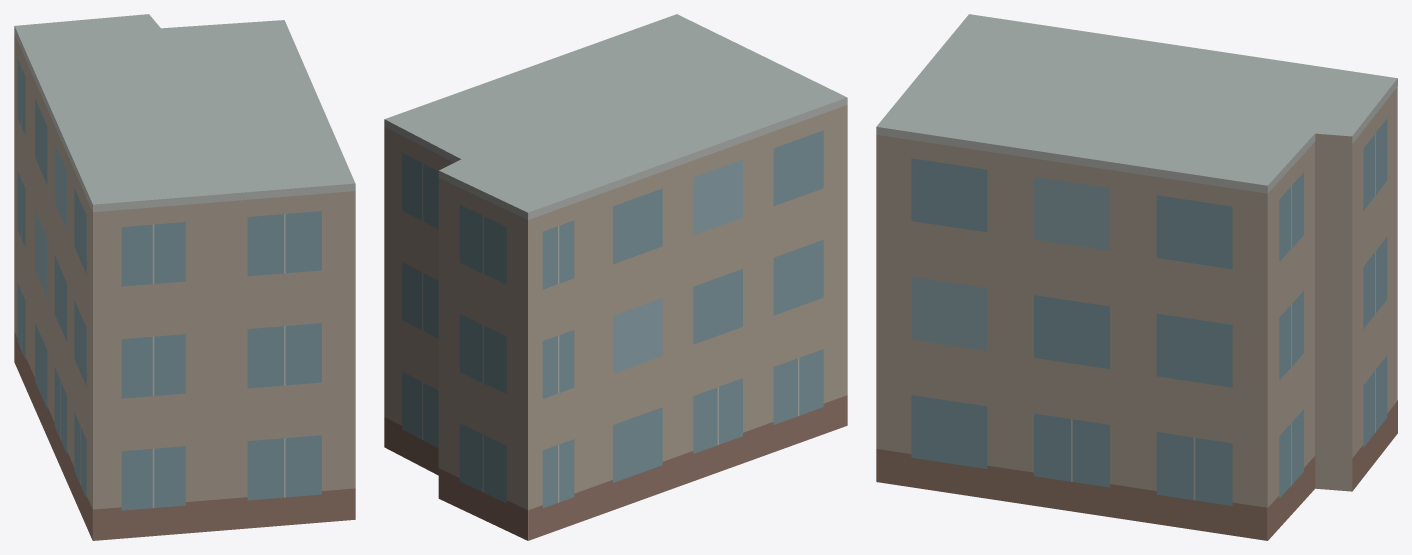
The model's file is survey-upis-32581572.glb.
3 views of the same model, side by side, from view 1: azimuth 30°, elevation 25°; view 2: azimuth 150°, elevation 25°; view 3: azimuth 270°, elevation 25° (orthographic). The views are drawn at different scales.
Visible parts, largest first — view 1: survey-upis-32581572.tmp; view 2: survey-upis-32581572.tmp; view 3: survey-upis-32581572.tmp.
Boxes of the visible parts, <box> form: survey-upis-32581572.tmp: <box>14,14,355,540</box>; survey-upis-32581572.tmp: <box>384,14,847,540</box>; survey-upis-32581572.tmp: <box>876,14,1397,540</box>.
Bounding box in the file's own units: 11.31 × 10.9 × 14.52.
